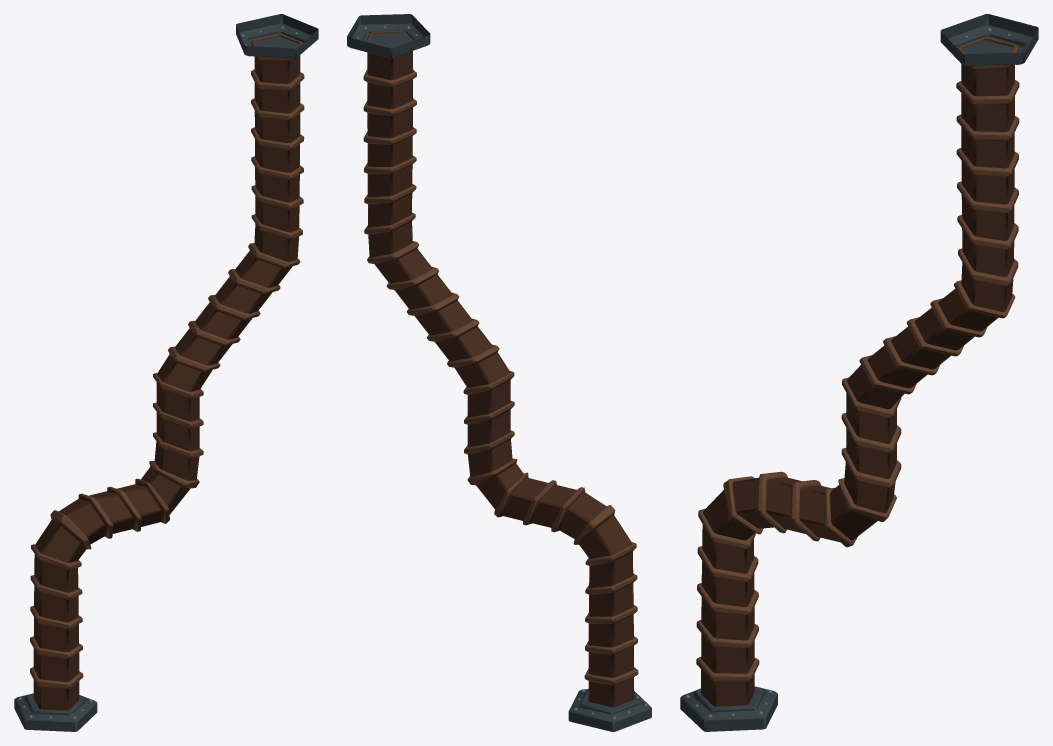
The model's file is pipe_shape2.fbx.
3 renders of one model, left to right at view 1: azimuth 30°, elevation 25°; view 2: azimuth 150°, elevation 25°; view 3: azimuth 330°, elevation 25°, orthographic. The views are drawn at different scales.
Parts seen in each view (by area): view 1: curve gen v2.005; view 2: curve gen v2.005; view 3: curve gen v2.005.
Boxes of the visible parts, <box> form: curve gen v2.005: <box>14,14,318,731</box>; curve gen v2.005: <box>347,14,651,731</box>; curve gen v2.005: <box>680,14,1038,731</box>.
Size of the model in its own units: 7.62 by 15.64 by 1.81.
